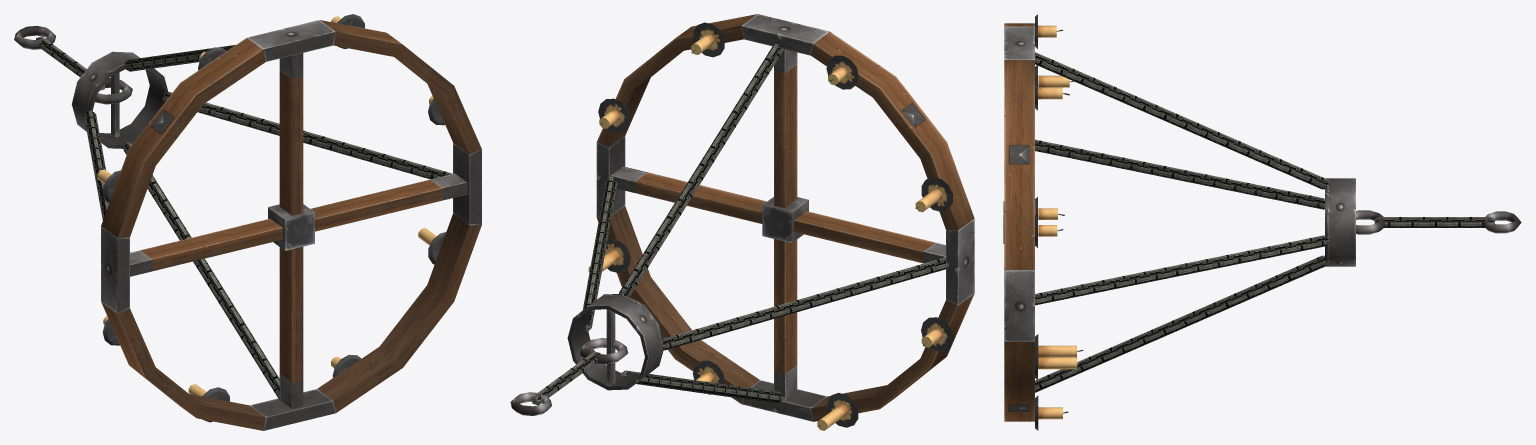
The model's file is Tavern_interior_chandelier.fbx.
3 renders of one model, left to right at view 1: azimuth 30°, elevation 25°; view 2: azimuth 150°, elevation 25°; view 3: azimuth 270°, elevation 25°, orthographic. The views are drawn at different scales.
Parts seen in each view (by area): view 1: Tavern_interior_chandelier; view 2: Tavern_interior_chandelier; view 3: Tavern_interior_chandelier.
Boxes of the visible parts, box(x1,y1,x2,y2) form: Tavern_interior_chandelier: box(14, 14, 481, 430); Tavern_interior_chandelier: box(510, 14, 974, 430); Tavern_interior_chandelier: box(1003, 14, 1521, 430).
Size of what is drawn, in the model's own units: 2.35 by 2.35 by 3.07.
